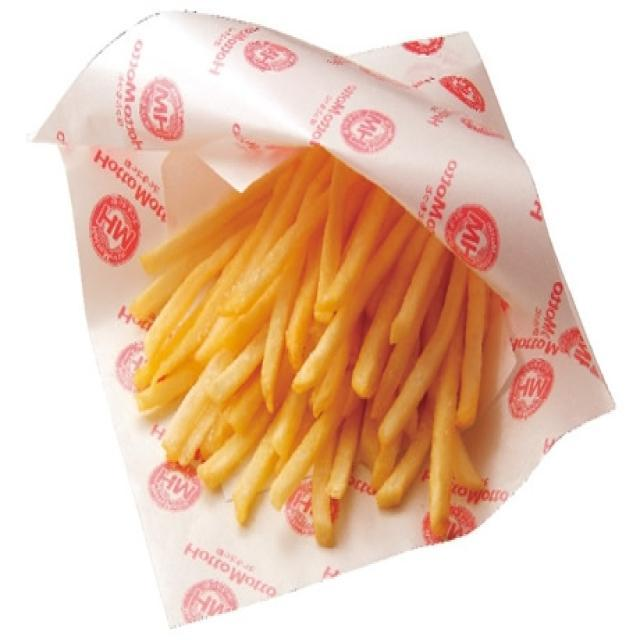French Fries: (134, 134, 516, 532)
